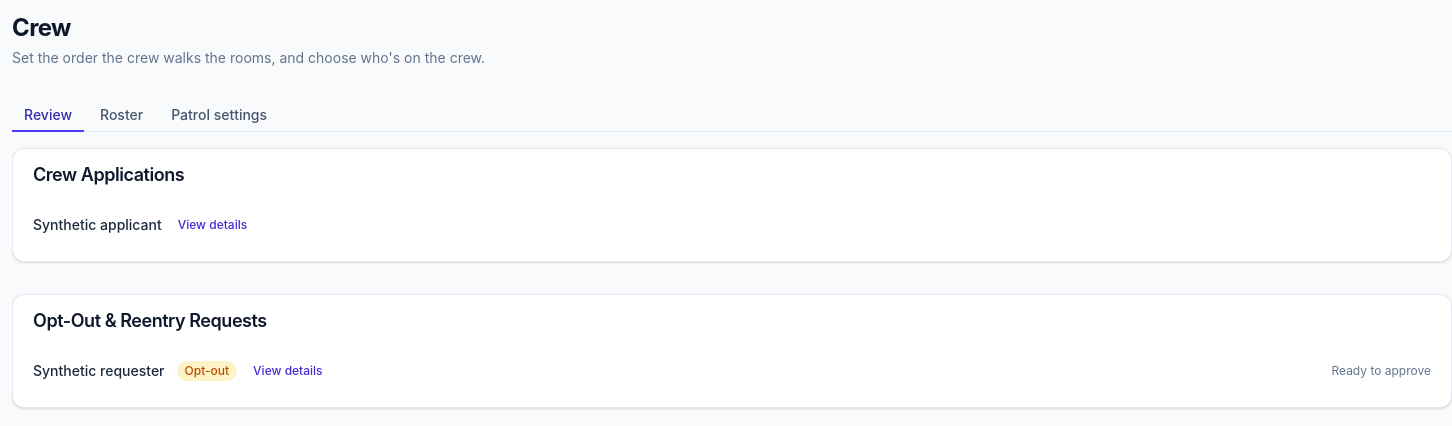
Test: shows known zero crew totals in the en roster
The width and height of the screenshot is (1452, 426).
Click the tab "Roster": (122, 116) left=88, top=100, right=155, bottom=132
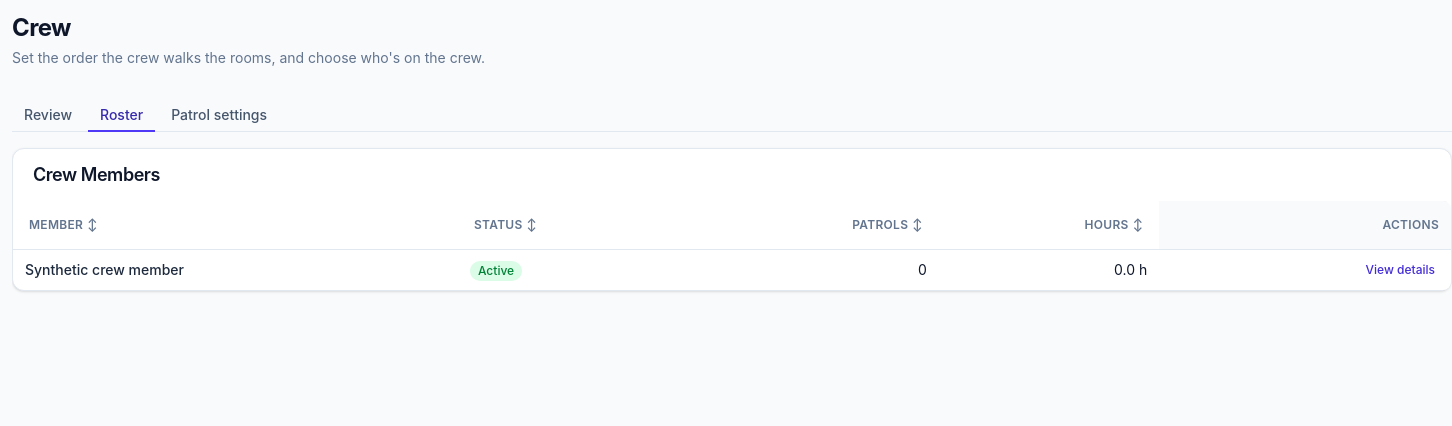
Check: the cell "0" is shown, box left=689, top=250, right=939, bottom=290
Check: the cell "0.0 h" is shown, box left=939, top=250, right=1159, bottom=290
